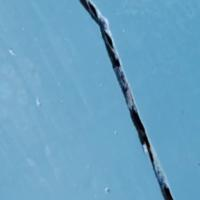crack: (77, 3, 185, 199), (76, 0, 76, 3)
